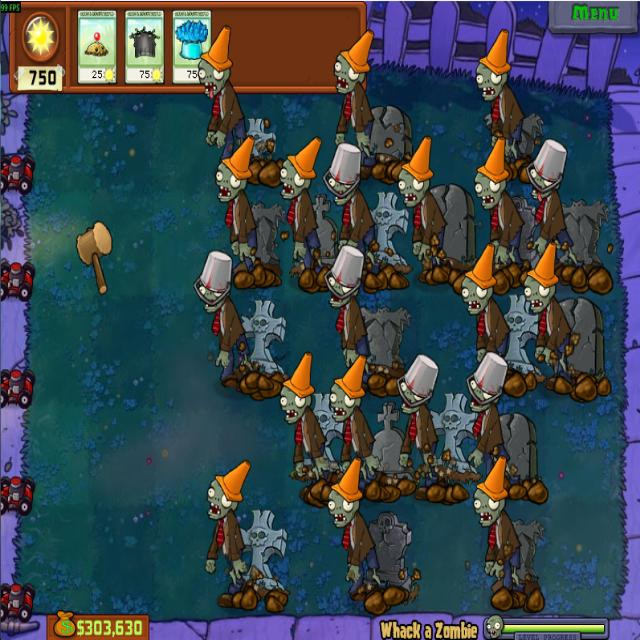buckethead: (524, 139, 573, 203), (465, 350, 511, 413), (190, 249, 235, 313), (396, 353, 439, 416), (324, 146, 364, 204), (329, 246, 364, 310)
conehead: (324, 460, 372, 529), (471, 28, 514, 104), (470, 137, 514, 210), (274, 137, 324, 200), (325, 359, 376, 420), (458, 242, 498, 319), (212, 136, 256, 204), (276, 352, 316, 426), (471, 458, 513, 528), (332, 30, 376, 96), (396, 133, 434, 209), (197, 25, 236, 98), (523, 242, 562, 314), (204, 462, 251, 521)
grave: (421, 184, 472, 285), (428, 391, 478, 483), (552, 300, 605, 386), (366, 508, 418, 595), (366, 403, 417, 491), (554, 198, 610, 270), (497, 294, 543, 381), (241, 509, 289, 592), (242, 298, 285, 376), (367, 191, 409, 269), (496, 414, 539, 487), (363, 302, 407, 372), (300, 193, 338, 274), (362, 104, 413, 164), (489, 109, 545, 162), (507, 518, 542, 592), (249, 203, 283, 269), (307, 394, 338, 456), (242, 115, 274, 160)
gravebuster: (126, 11, 164, 82)
